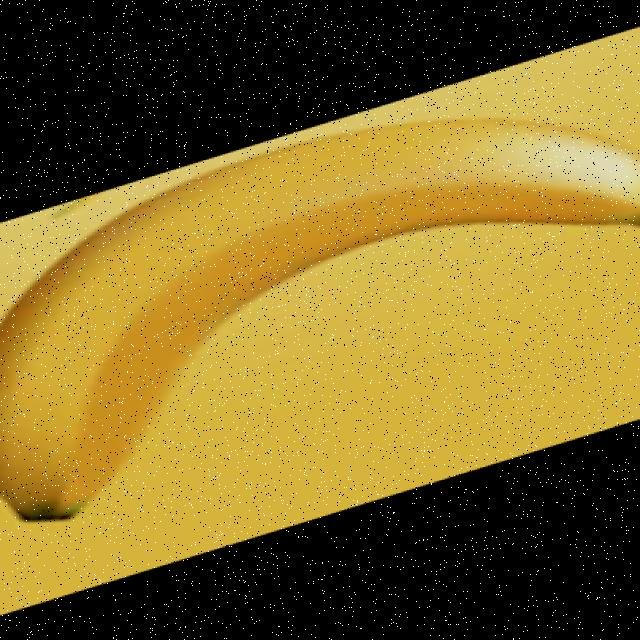god quality banana: (0, 120, 637, 520)
